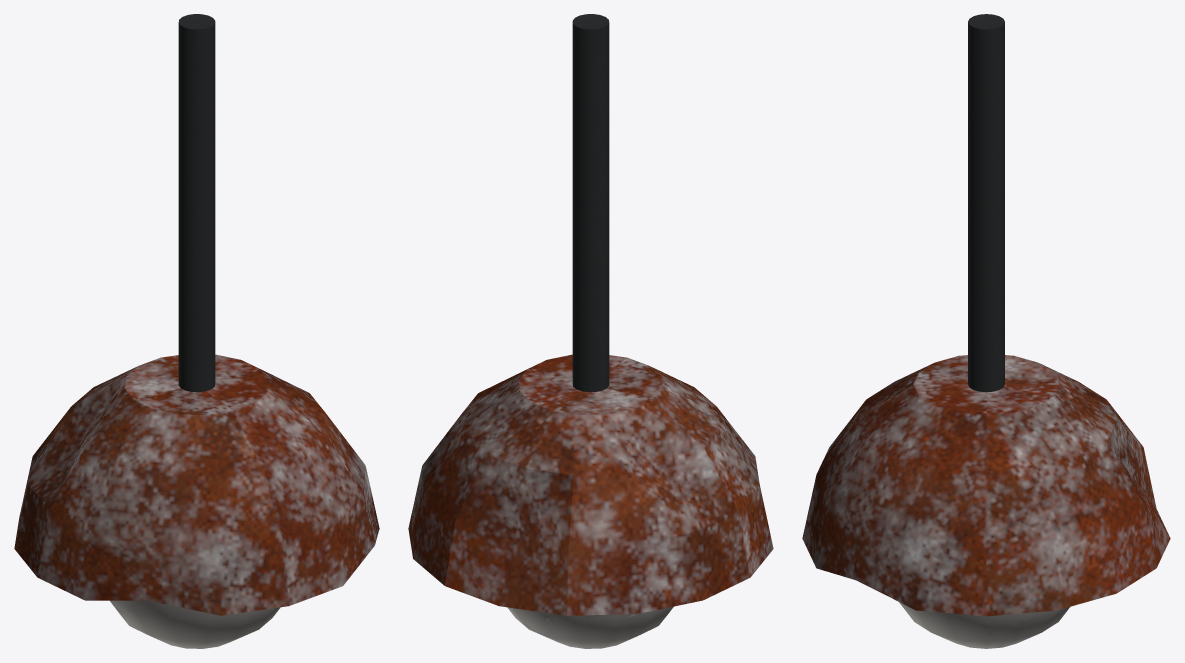
The model's file is Light.fbx.
3 views of the same model, side by side, from view 1: azimuth 30°, elevation 25°; view 2: azimuth 150°, elevation 25°; view 3: azimuth 270°, elevation 25° (orthographic).
Visible parts, largest first — view 1: Sphere; view 2: Sphere; view 3: Sphere.
Boxes of the visible parts, box(x1,y1,x2,y2) form: Sphere: box(14, 14, 379, 648); Sphere: box(408, 14, 773, 648); Sphere: box(802, 14, 1170, 648).
Bounding box in the file's own units: 200 × 370 × 200.
Materials: 3 (3 with a texture image).
